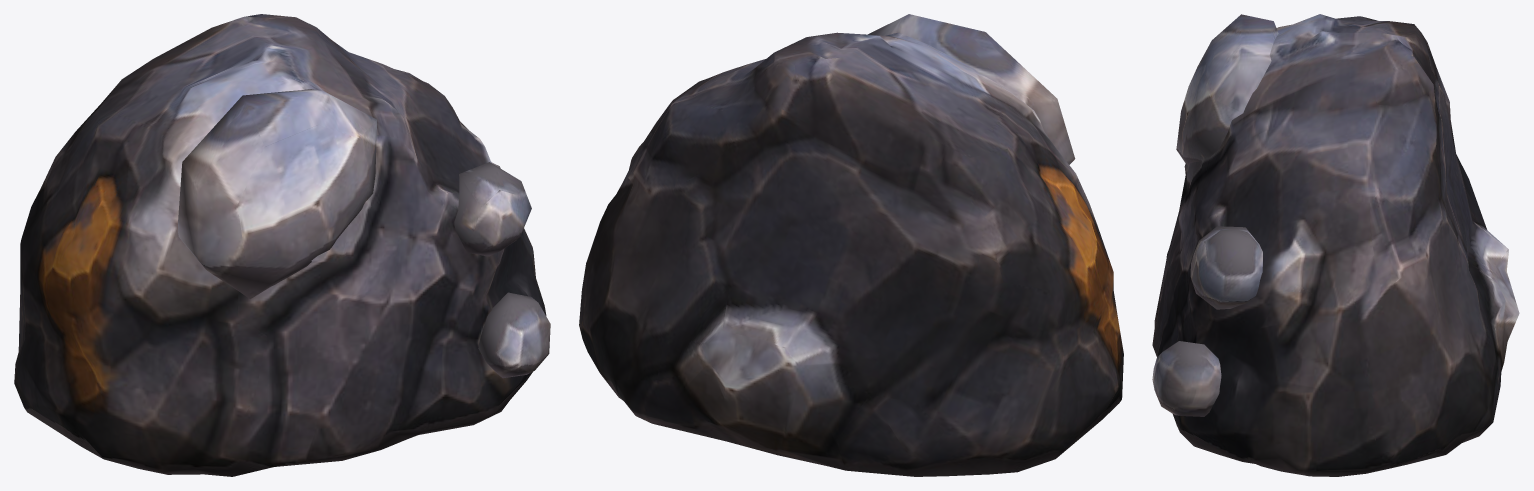
File: metal.glb
3 renders of one model, left to right at view 1: azimuth 30°, elevation 25°; view 2: azimuth 150°, elevation 25°; view 3: azimuth 270°, elevation 25°, orthographic. The views are drawn at different scales.
Visible parts, largest first — view 1: metal; view 2: metal; view 3: metal.
Boxes of the visible parts, <box> form: metal: <box>14,14,550,476</box>; metal: <box>579,14,1123,476</box>; metal: <box>1152,14,1519,476</box>.
Size of the model in its own units: 1 by 0.7184 by 0.6836.
Materials: 1 (1 with a texture image).
